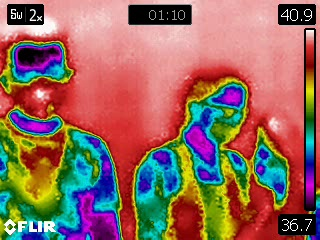human: (1, 28, 128, 240), (125, 66, 252, 240), (249, 116, 320, 240)
